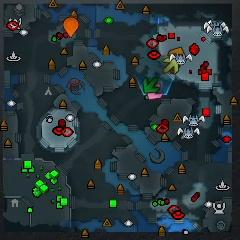p5: (63, 17, 79, 38)
x1: (148, 83, 163, 99)
x2: (164, 57, 179, 74)
x4: (143, 77, 159, 93)
x5: (168, 47, 185, 57)
